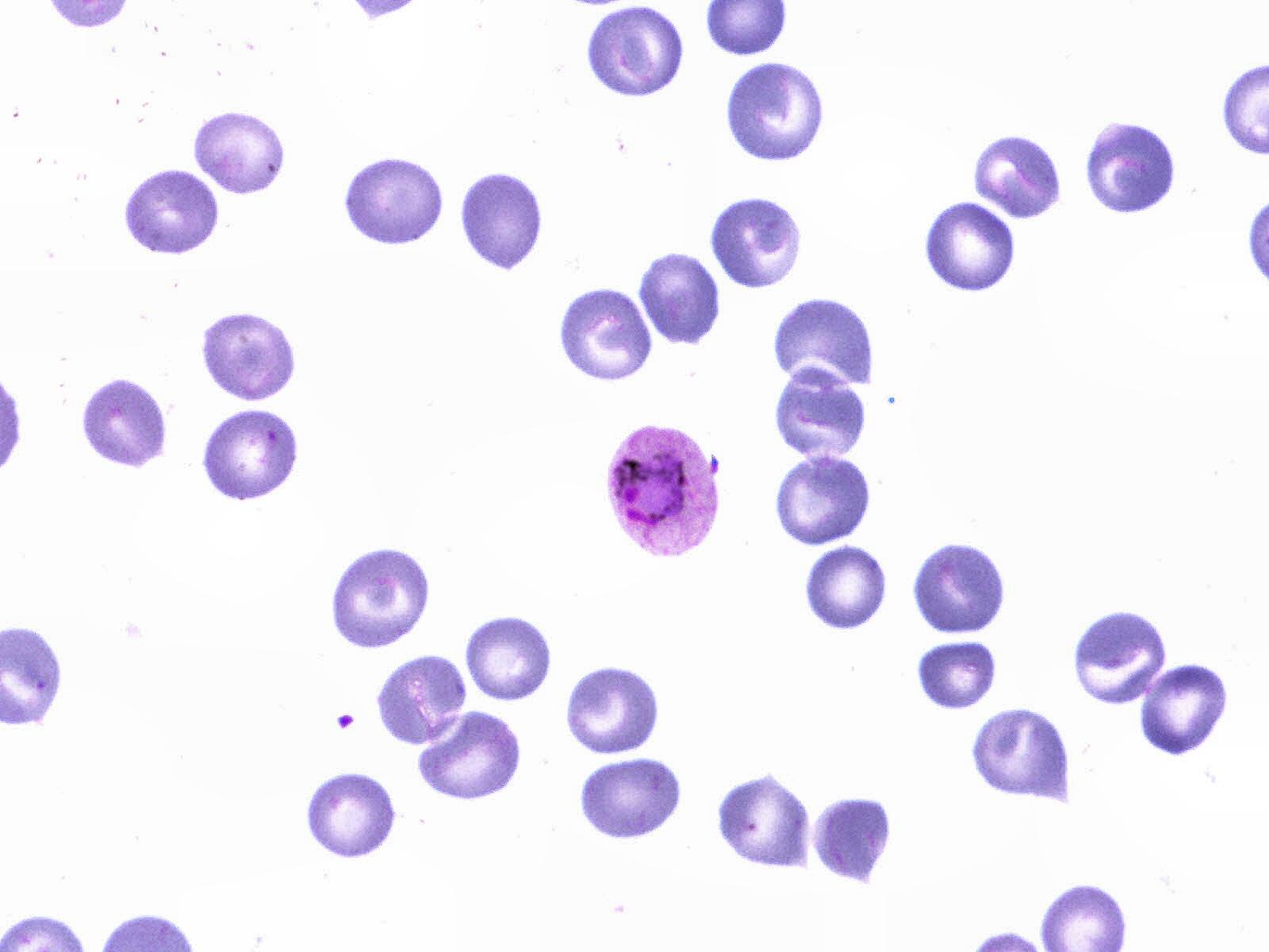Infected: (604, 426, 722, 557)
Uninfected: (727, 58, 827, 165), (774, 363, 865, 474), (1072, 605, 1169, 708), (416, 712, 523, 803), (971, 704, 1071, 801), (1080, 119, 1182, 214), (121, 164, 224, 258), (583, 9, 685, 102), (777, 450, 874, 547), (564, 662, 662, 758), (373, 649, 468, 748), (562, 289, 656, 388), (335, 549, 428, 649), (343, 154, 444, 246), (715, 773, 811, 869), (914, 539, 1009, 636), (923, 200, 1020, 293), (778, 297, 875, 389), (579, 756, 682, 842), (202, 310, 299, 401), (203, 409, 298, 501), (463, 167, 544, 273), (1135, 664, 1228, 756), (712, 197, 801, 289), (971, 130, 1057, 225), (190, 108, 285, 194), (82, 375, 173, 464), (462, 616, 553, 704), (309, 770, 397, 860), (641, 251, 720, 343), (804, 546, 891, 629), (813, 794, 895, 882), (918, 635, 995, 709)
